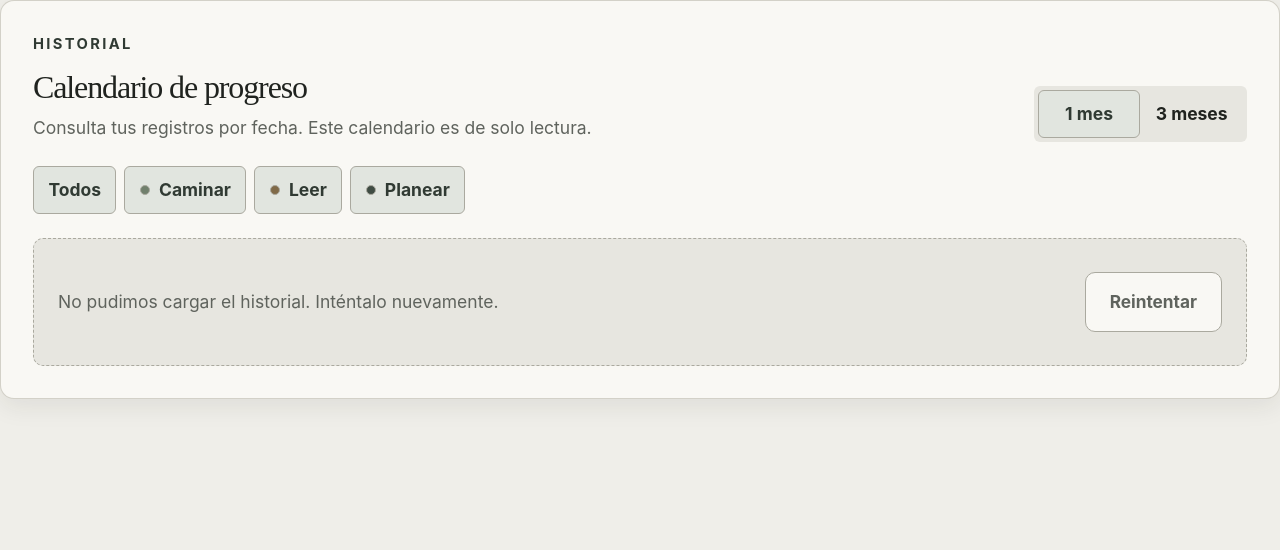
Test case: ProgressHeatmap › keeps an endpoint error local and retries it
Expected: the text "No pudimos cargar el historial. Inténtalo nuevamente." is shown, [58, 288, 498, 316]
Click the button "Reintentar" at x=1153, y=302, box [1085, 272, 1222, 332]
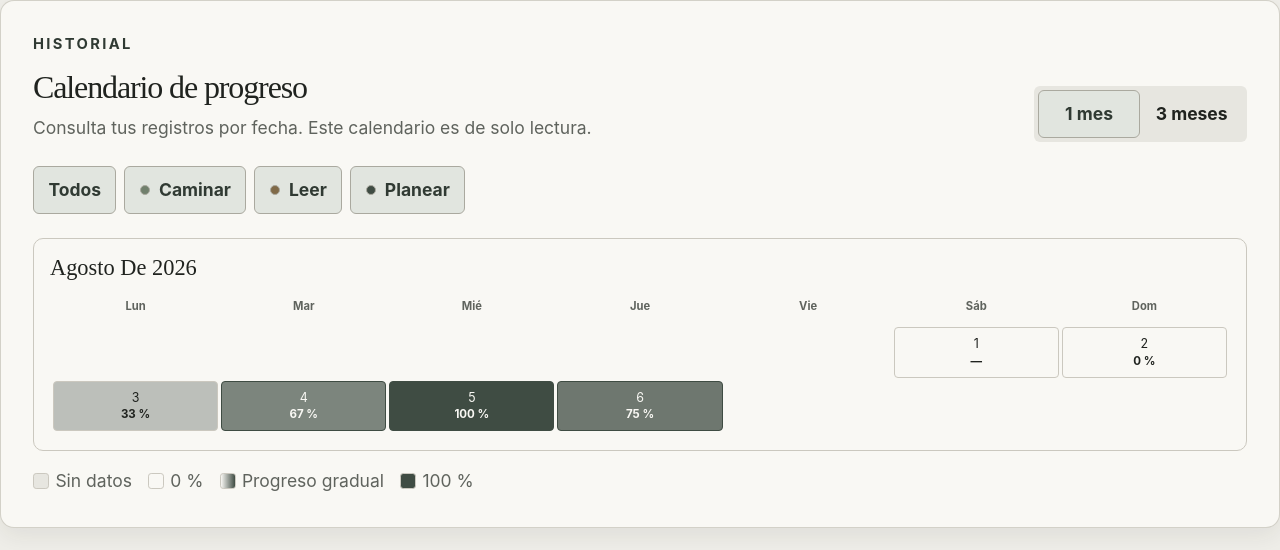
Expected: the table is shown, [50, 294, 1230, 434]
